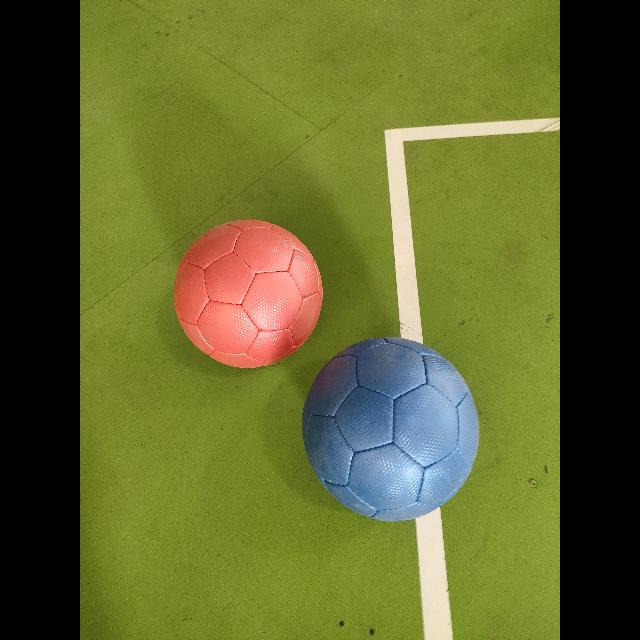B: (302, 338, 478, 520)
R: (174, 221, 322, 367)
